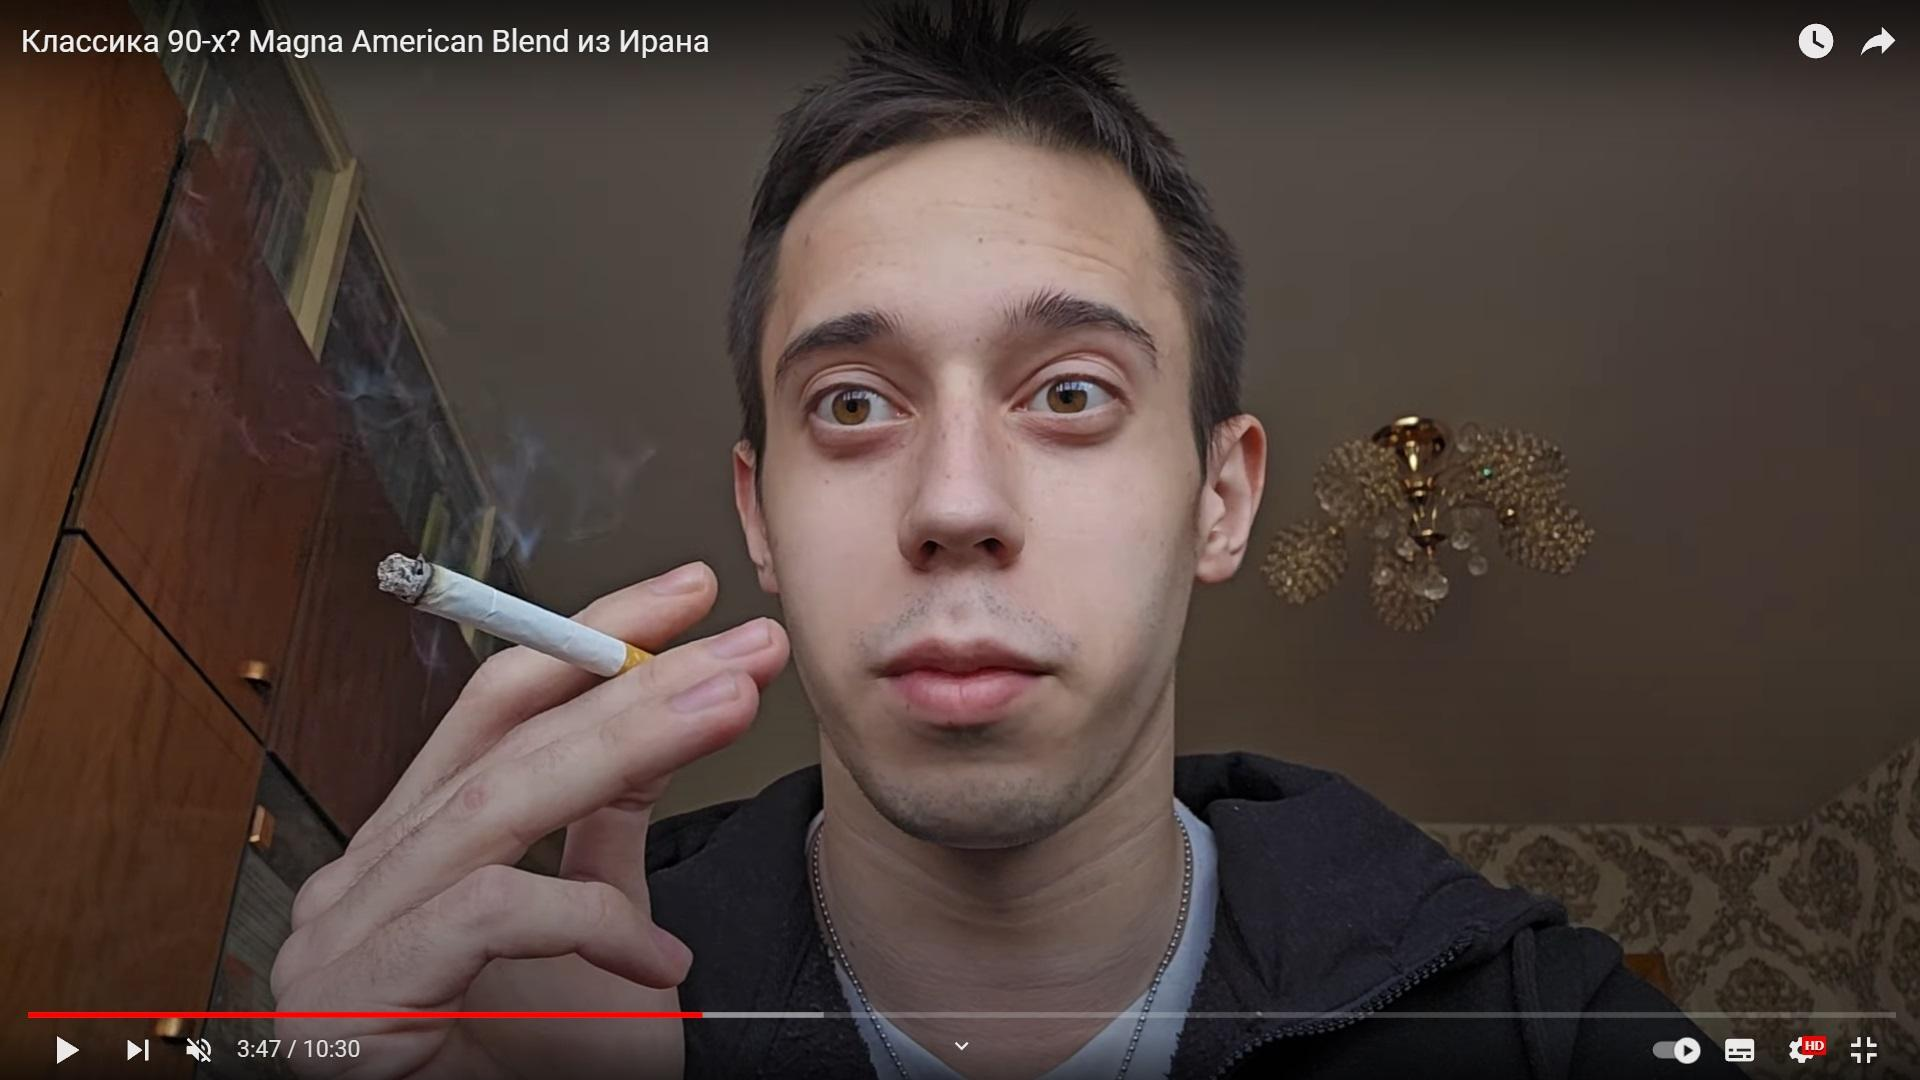cigarette: (377, 551, 654, 679)
